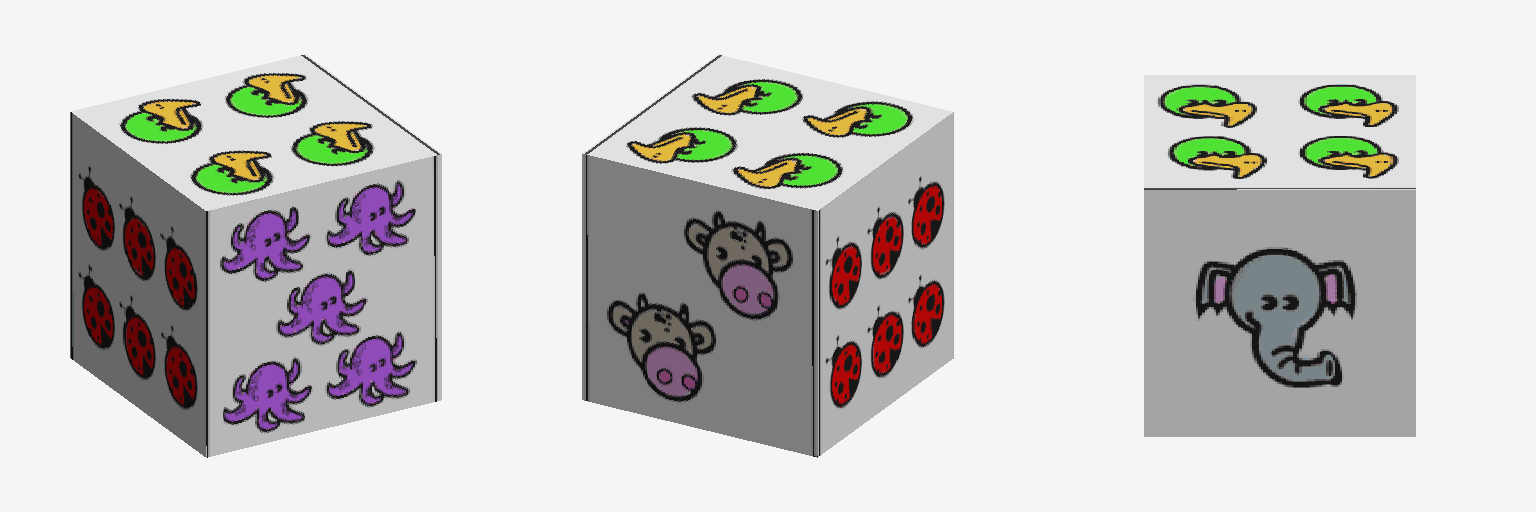
The picture shows the model from 3 angles: view 1: azimuth 30°, elevation 25°; view 2: azimuth 150°, elevation 25°; view 3: azimuth 270°, elevation 25°; orthographic projection.
Visible parts, largest first — view 1: Cube; view 2: Cube; view 3: Cube.
Part boxes in pixels (bbox=[...]): Cube: bbox=[70, 54, 441, 457]; Cube: bbox=[582, 54, 953, 457]; Cube: bbox=[1144, 75, 1415, 436].
Bounding box in the file's own units: 2 × 2 × 2.
Materials: 1 (1 with a texture image).